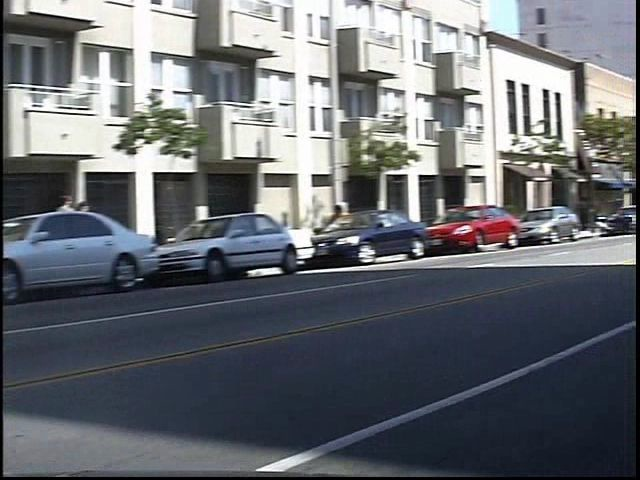person: (71, 185, 95, 265), (91, 196, 111, 261)
